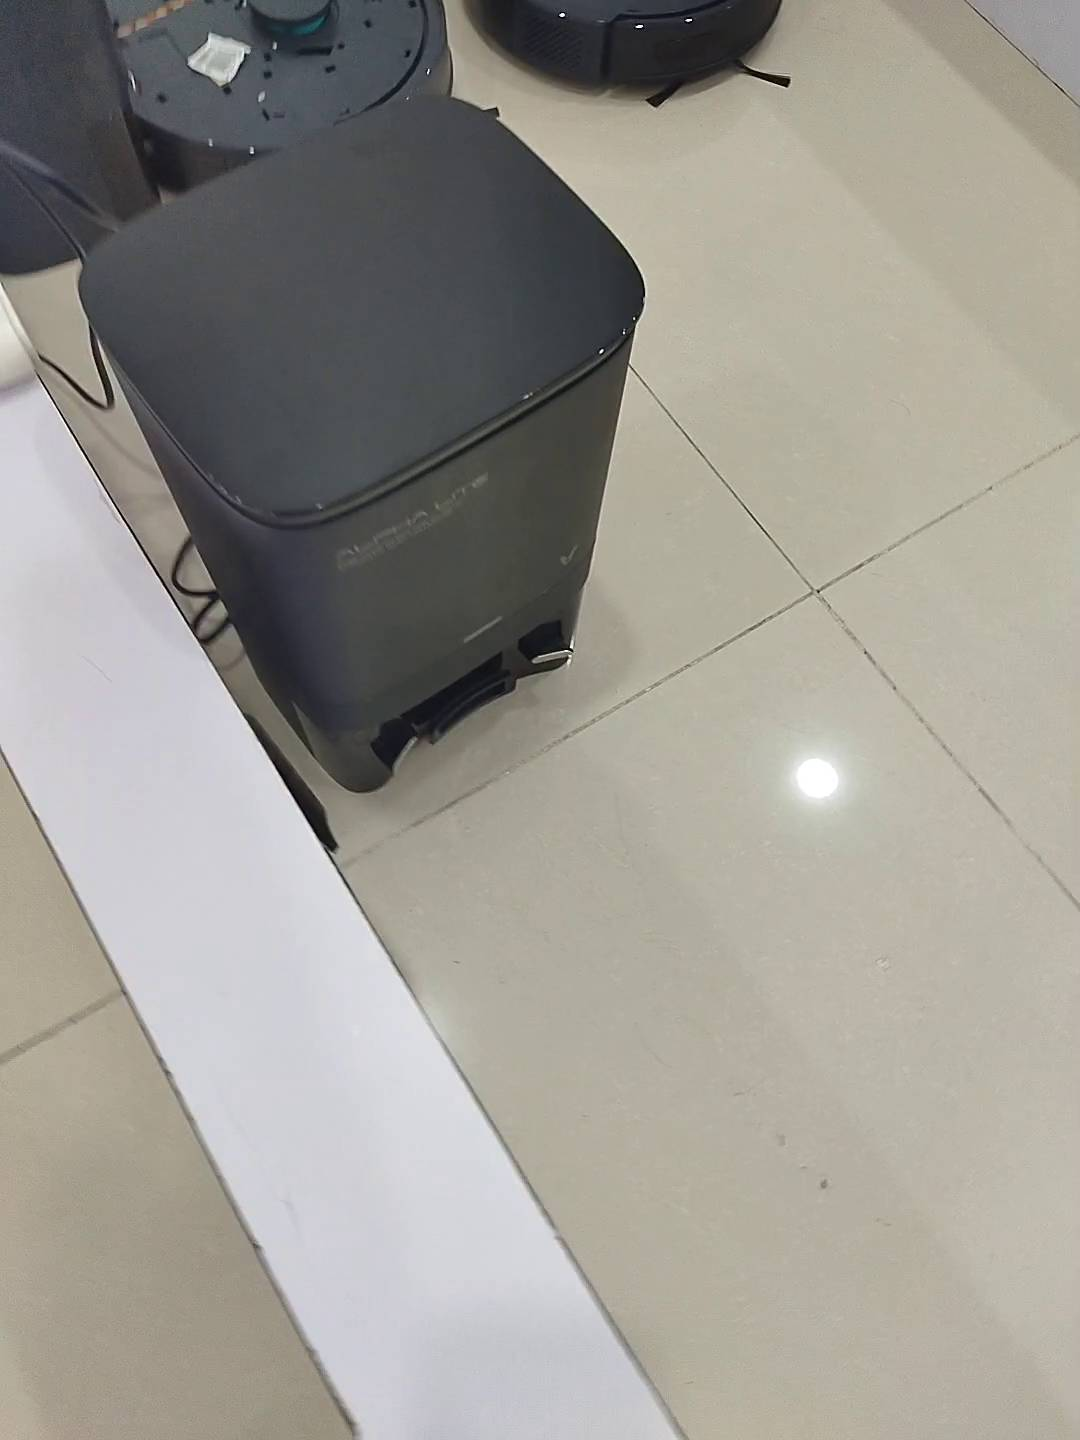dust collecting barrel: (79, 99, 646, 794)
